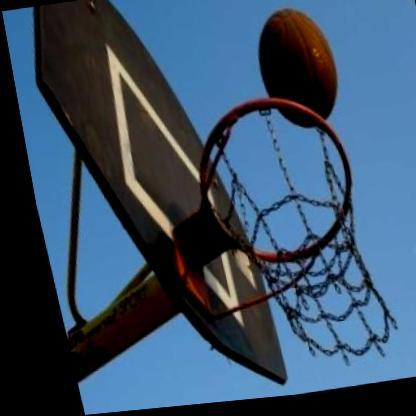basketball: (236, 0, 346, 140)
